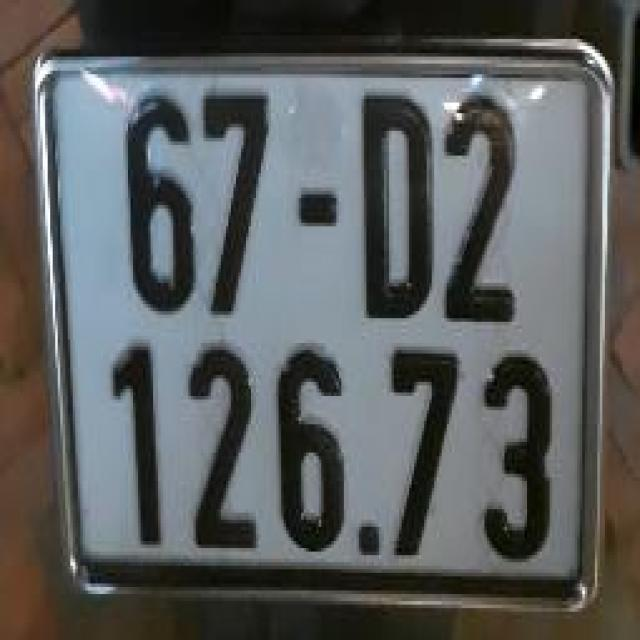1: (108, 325, 186, 555)
2: (183, 329, 271, 562), (444, 81, 525, 322)
3: (481, 330, 568, 582)
6: (110, 78, 201, 311), (278, 309, 346, 557)
7: (392, 329, 476, 562), (204, 65, 264, 313)
D: (342, 74, 446, 336)
